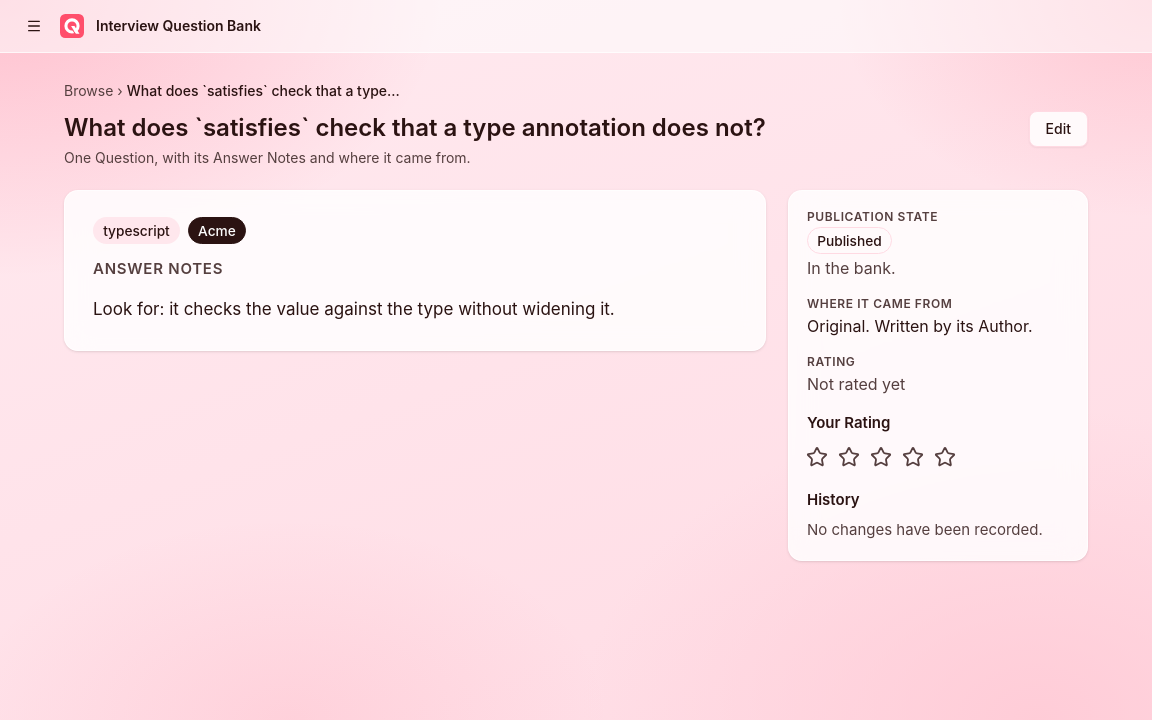
Test: changing a Question's Clients by editing it › sends an empty list when every Client is removed
Step 1. Click the link "Edit" → coordinates (1058, 129), box top-left (1029, 111), bottom-right (1088, 147)
(page scrolled)
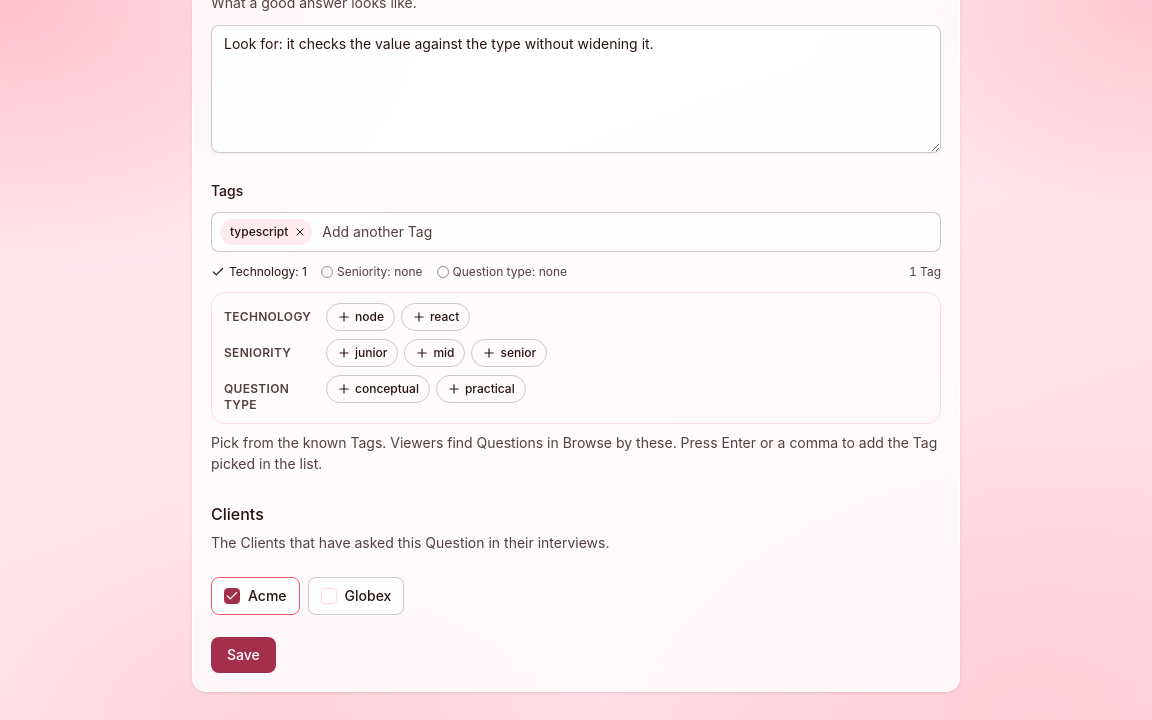
Step 2. Click the checkbox named "Acme" next to "Acme" → coordinates (232, 596), box top-left (224, 588), bottom-right (240, 604)
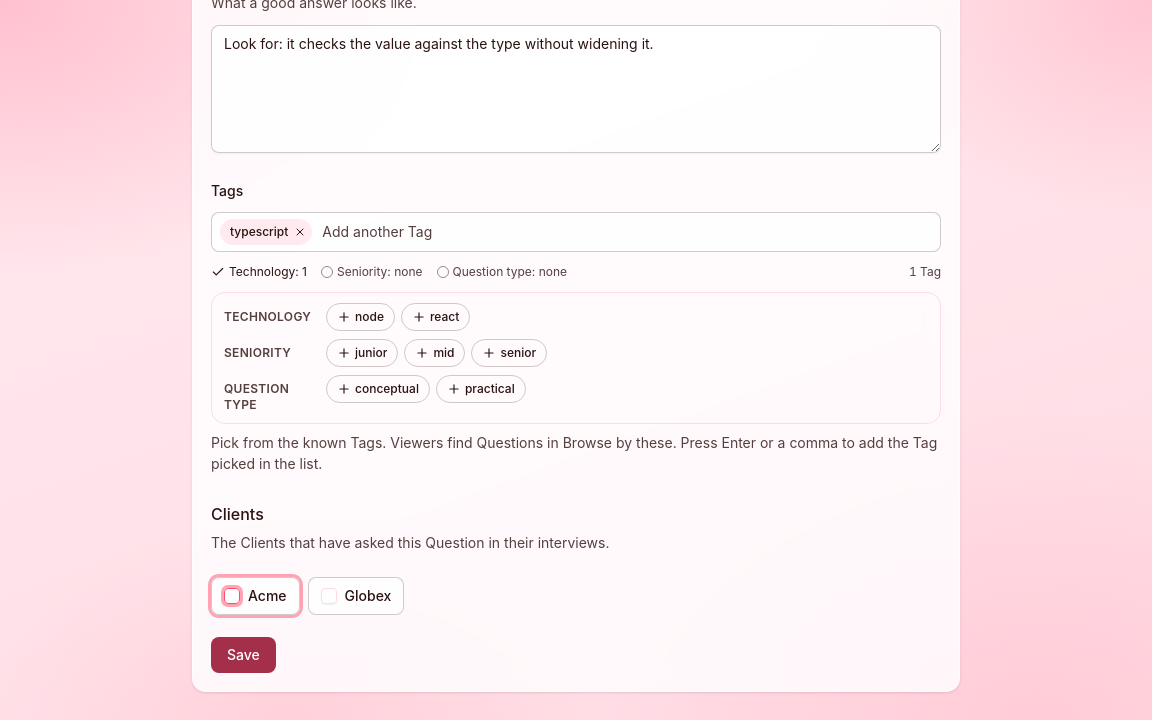
Step 3. Click the button "Save" → coordinates (243, 655), box top-left (211, 637), bottom-right (276, 673)
(page scrolled)
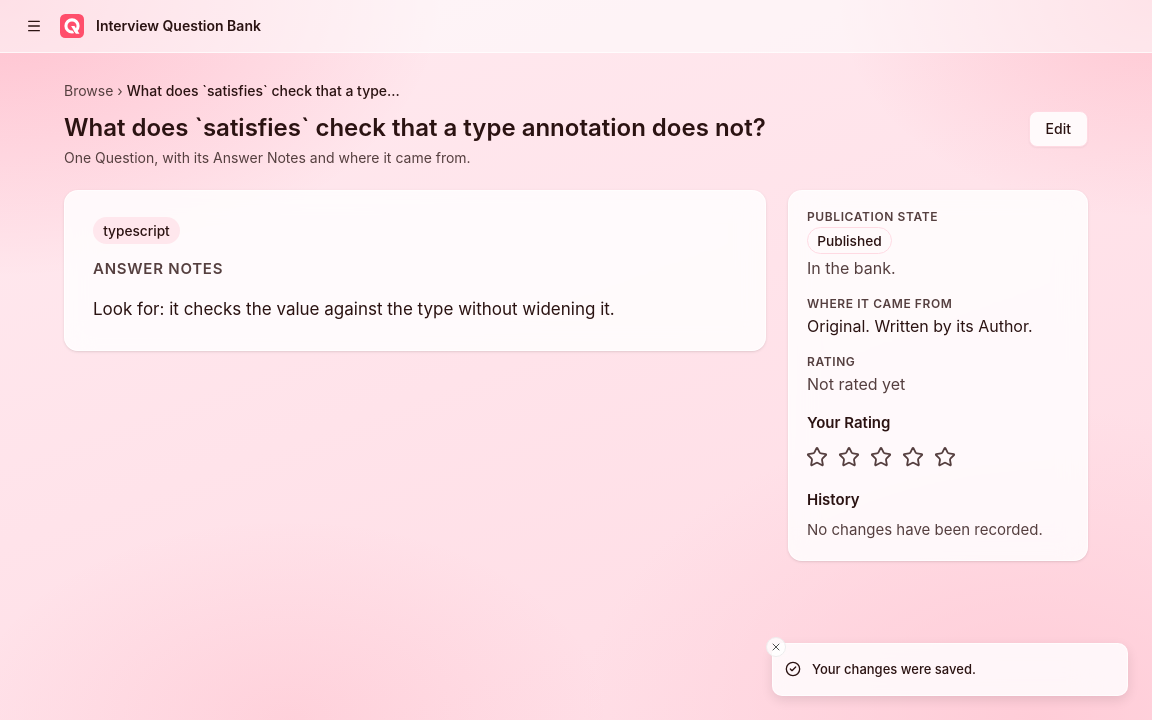
expect the heading "What does `satisfies` check that a type annotation does not?" is shown: met, box top-left (64, 113), bottom-right (766, 142)
